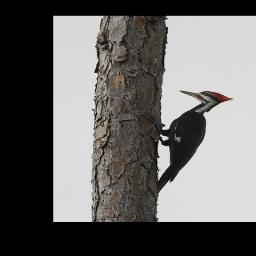Woodpecker: (158, 90, 235, 195)
